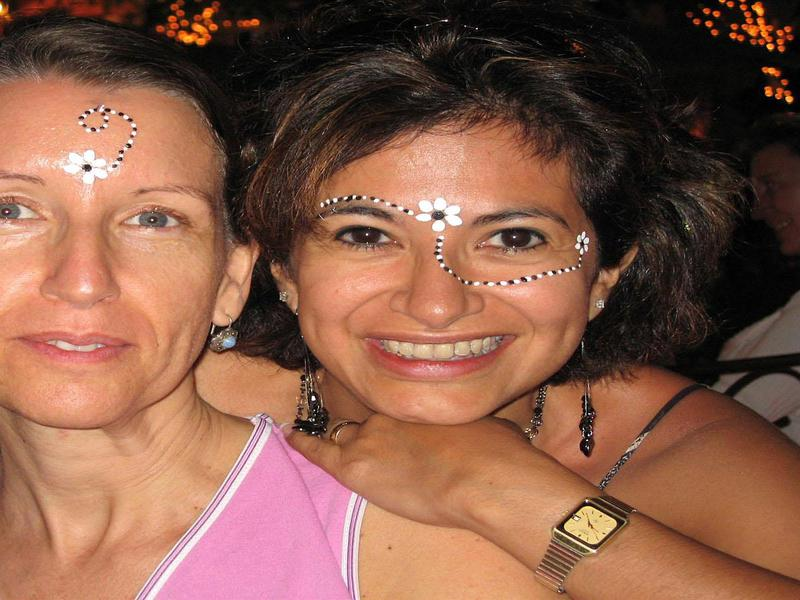person: (1, 12, 567, 600), (247, 20, 800, 599)
